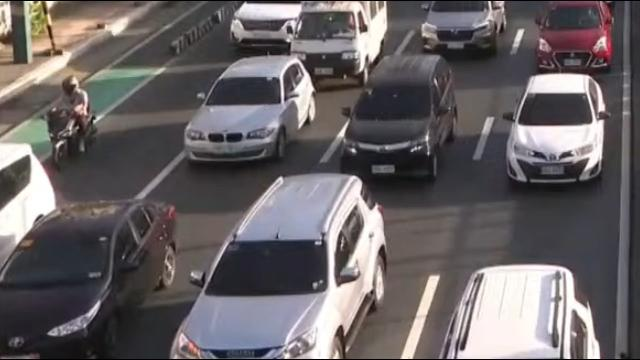car: (172, 174, 387, 360), (2, 202, 178, 360), (439, 264, 601, 360), (339, 57, 458, 186), (184, 57, 318, 165), (502, 75, 609, 187), (0, 144, 59, 288), (528, 0, 616, 70), (419, 0, 508, 55), (230, 2, 305, 55)
motorcycle: (41, 76, 97, 169)
van: (293, 1, 390, 85)
